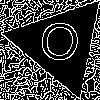O: (35, 19, 84, 72)
